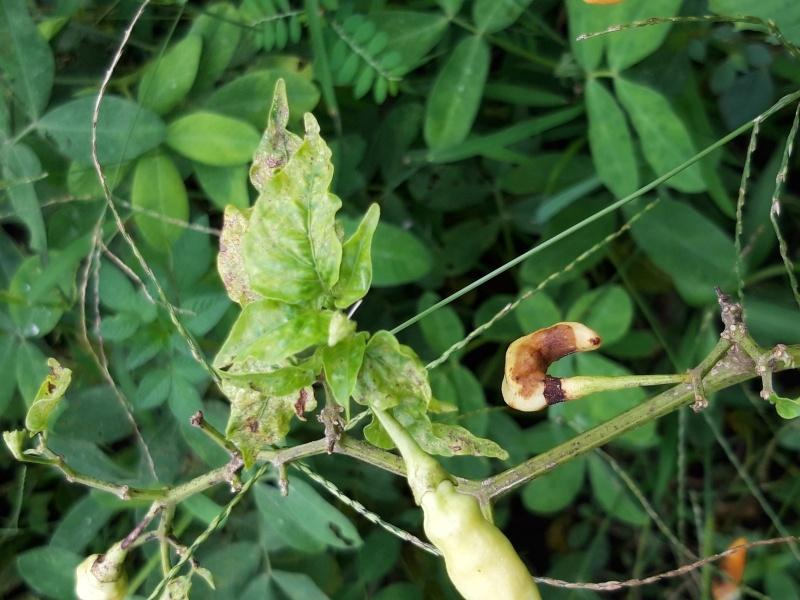antraknosa: (501, 321, 602, 410)
cabai_normal: (419, 484, 538, 600)
